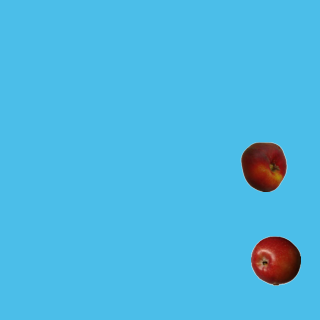Apple Braeburn: (250, 235, 300, 285)
Nectarine Flat: (238, 141, 288, 191)
